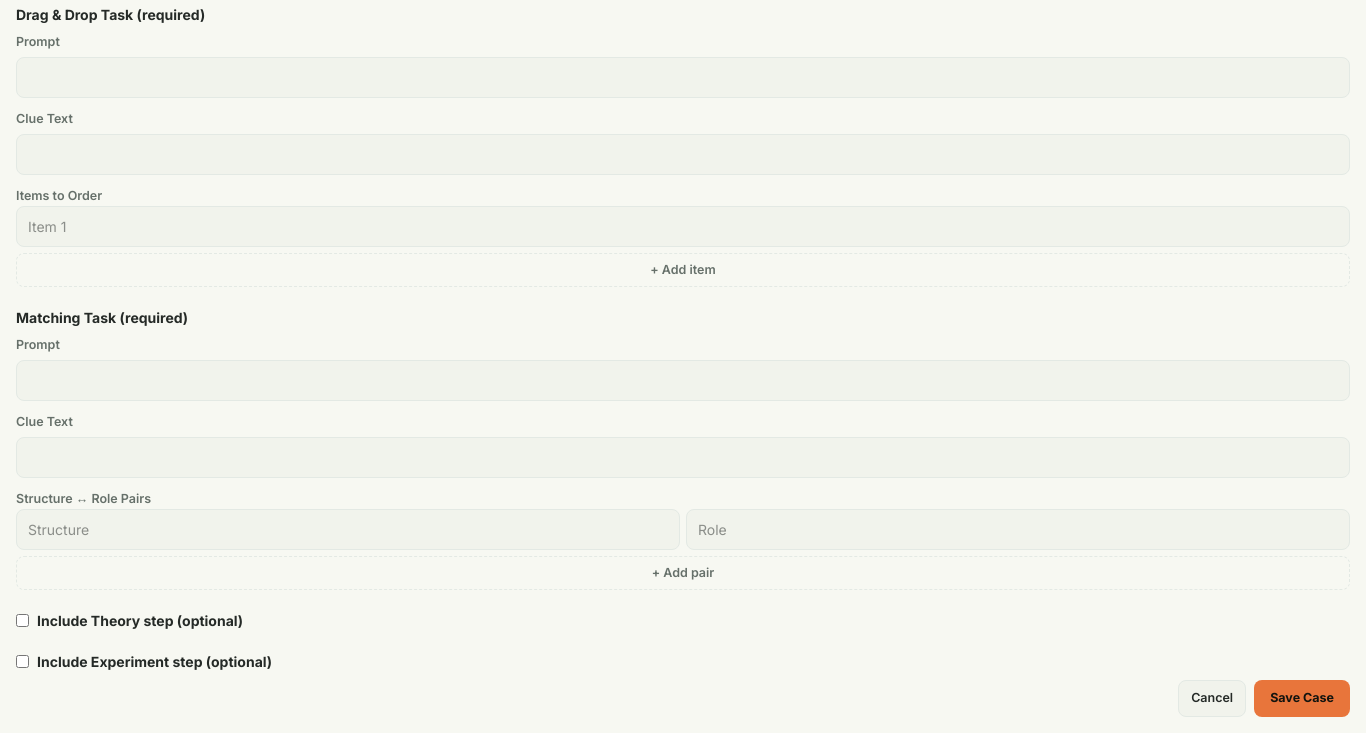
Scenario: AdminCaseEditor › experiment step: hidden by default, shown after checking the toggle
This screenshot has width=1366, height=733.
(page scrolled)
Expected: the text "Variable Name" is not shown
Step 1. Click the checkbox labelled "Include Experiment step (optional)" → (22, 662), box [16, 655, 29, 668]
(page scrolled)
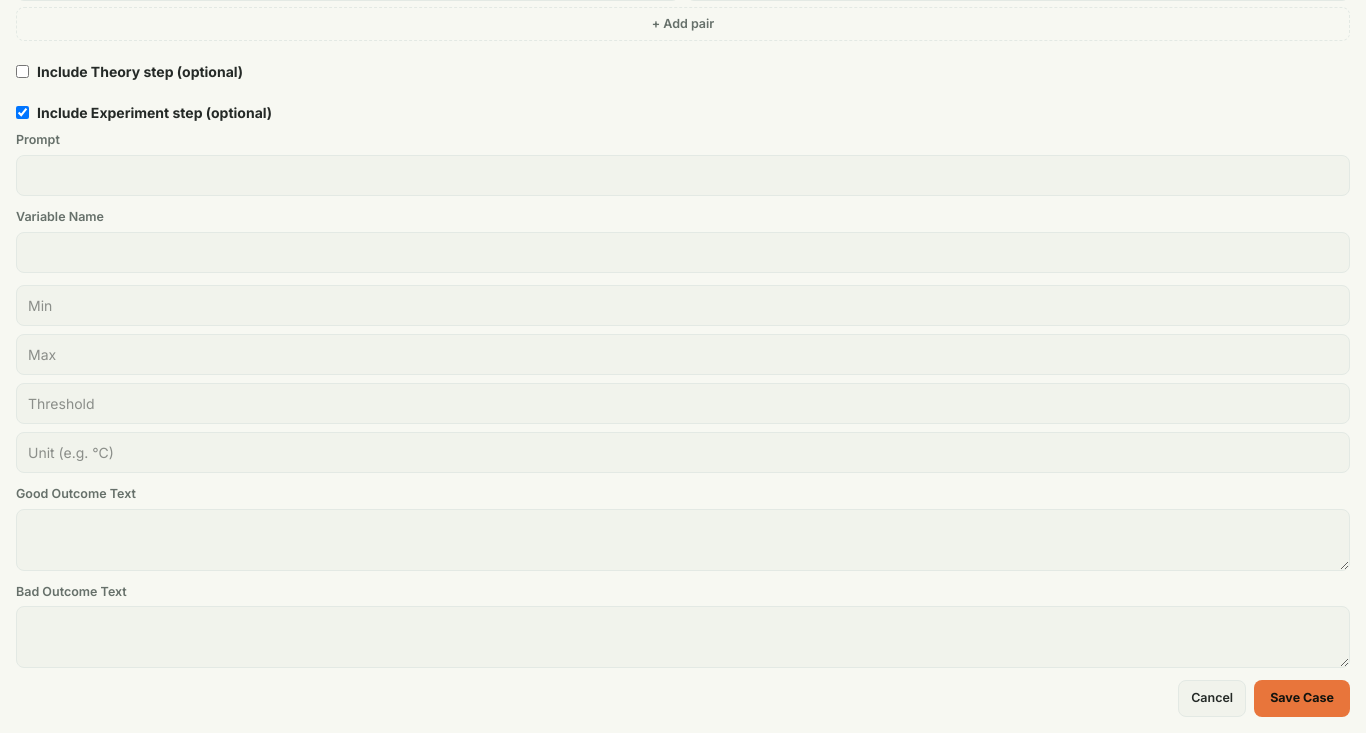
Expected: the text "Variable Name" is shown, [16, 208, 1350, 273]
Expected: the number field with placeholder "Min" is shown, [16, 285, 1350, 326]
Expected: the number field with placeholder "Max" is shown, [16, 334, 1350, 375]
